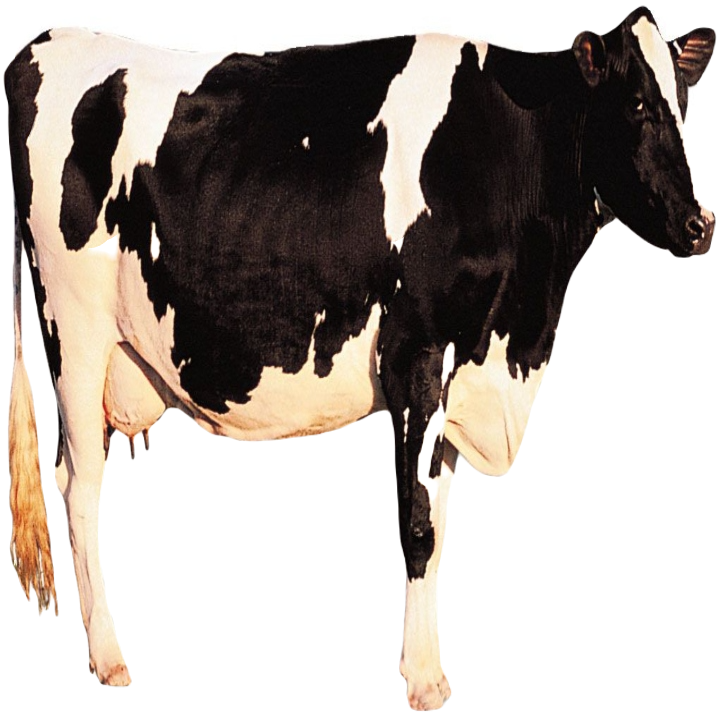Cow: (3, 3, 717, 713)
